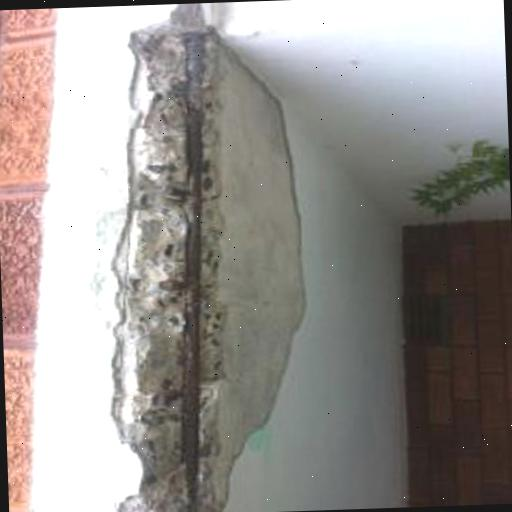spalling: (97, 7, 305, 512)
